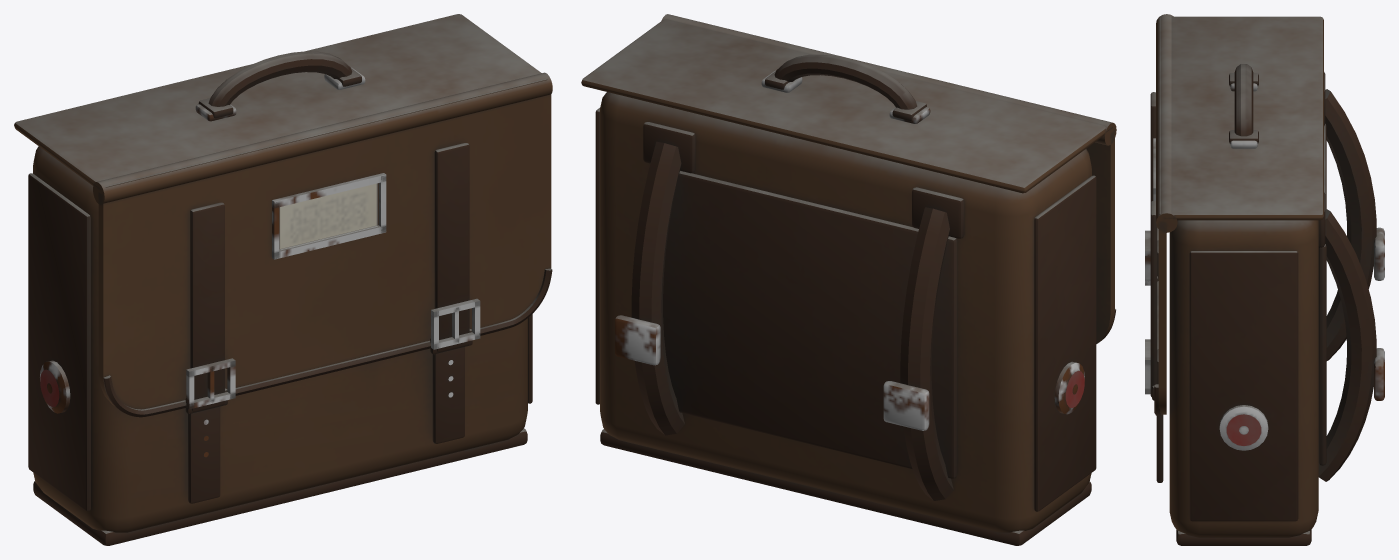
File: SM_SchoolBackpack.fbx
The picture shows the model from 3 angles, left to right: view 1: azimuth 30°, elevation 25°; view 2: azimuth 150°, elevation 25°; view 3: azimuth 270°, elevation 25°; orthographic projection. The views are drawn at different scales.
Parts seen in each view (by area): view 1: SM_SchoolBackpack; view 2: SM_SchoolBackpack; view 3: SM_SchoolBackpack.
Part boxes in pixels (<box>): SM_SchoolBackpack: <box>14,14,552,545</box>; SM_SchoolBackpack: <box>581,14,1116,545</box>; SM_SchoolBackpack: <box>1145,14,1384,545</box>.
Bounding box in the file's own units: 0.359 × 0.3072 × 0.177.
Materials: 2 (1 with a texture image).
